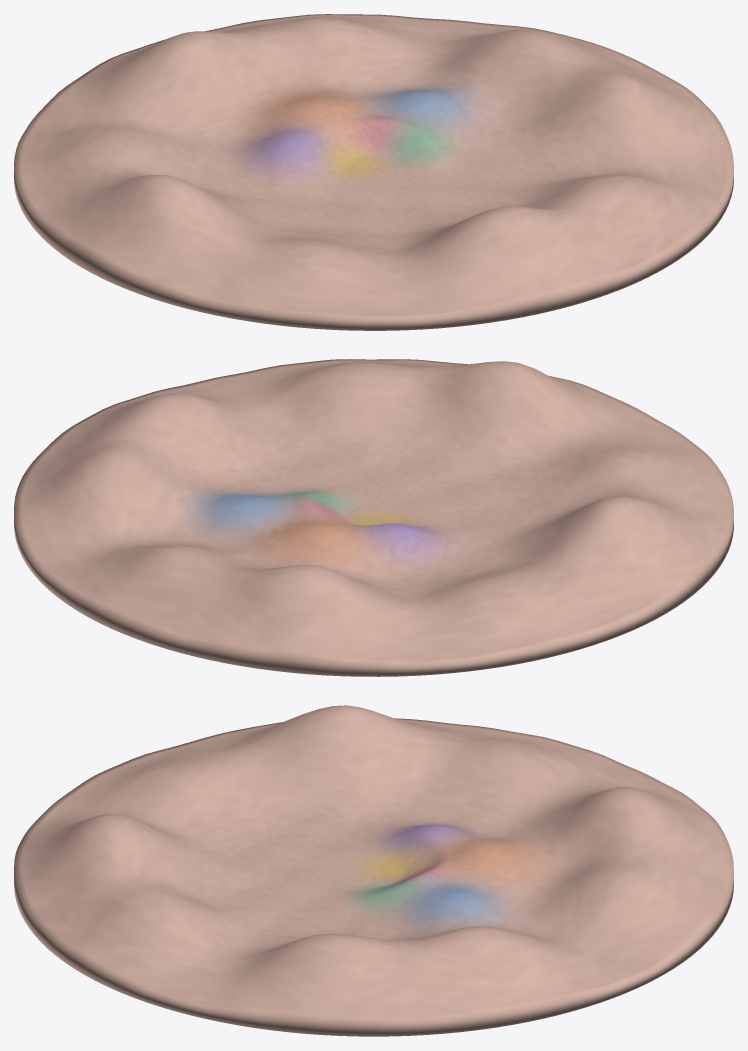
Rendered from W2_Ground.fbx.
3 views of the same model, one above another, from view 1: azimuth 30°, elevation 25°; view 2: azimuth 150°, elevation 25°; view 3: azimuth 270°, elevation 25° (orthographic).
Parts seen in each view (by area): view 1: W2_Ground; view 2: W2_Ground; view 3: W2_Ground.
Part boxes in pixels (box(x1,y1,x2,y2)): W2_Ground: box(14, 14, 733, 330); W2_Ground: box(14, 359, 733, 676); W2_Ground: box(14, 705, 733, 1036).
Bounding box in the file's own units: 22 × 2.21 × 22.
